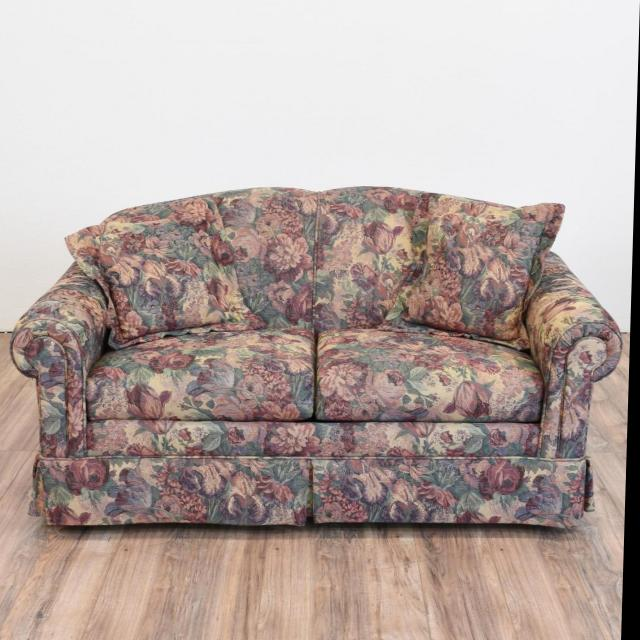Sofa: (10, 185, 628, 529)
